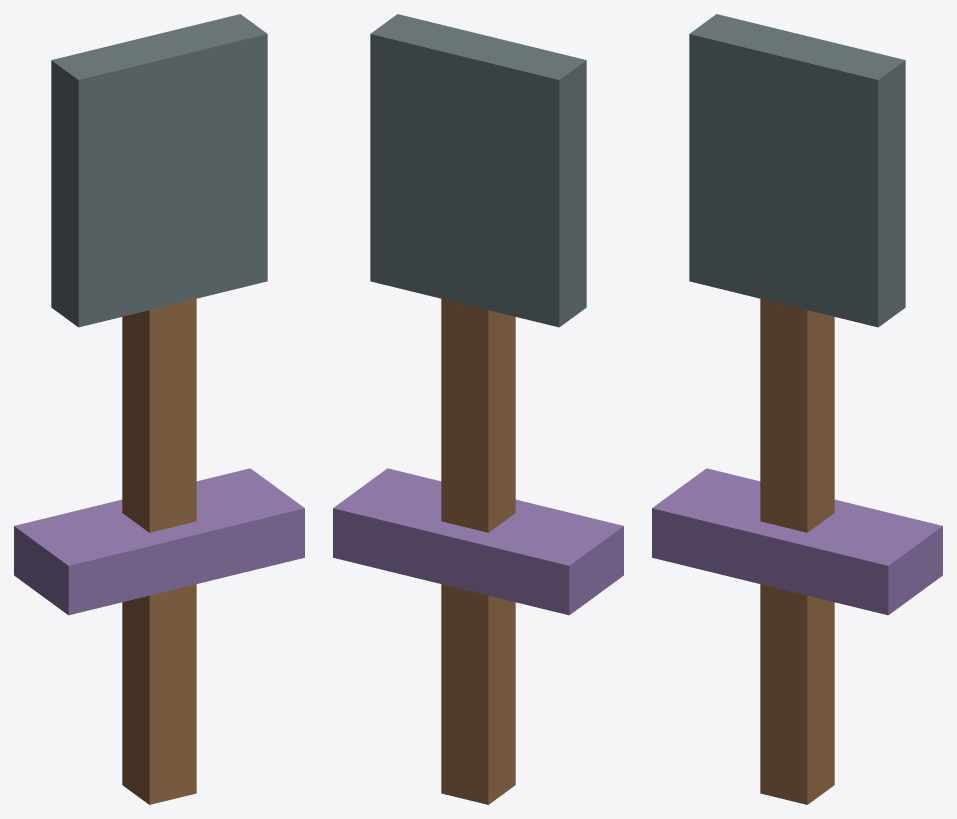
File: games-04.glb
3 views of the same model, side by side, from view 1: azimuth 30°, elevation 25°; view 2: azimuth 150°, elevation 25°; view 3: azimuth 330°, elevation 25° (orthographic).
Parts seen in each view (by area): view 1: Pixel sword; view 2: Pixel sword; view 3: Pixel sword.
Boxes of the visible parts, x1=… form: Pixel sword: x1=14, y1=14, x2=304, y2=804; Pixel sword: x1=333, y1=14, x2=623, y2=804; Pixel sword: x1=652, y1=14, x2=942, y2=804.
Size of the model in its own units: 0.8 by 2.4 by 0.32.
